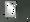person: (6, 2, 17, 18)
